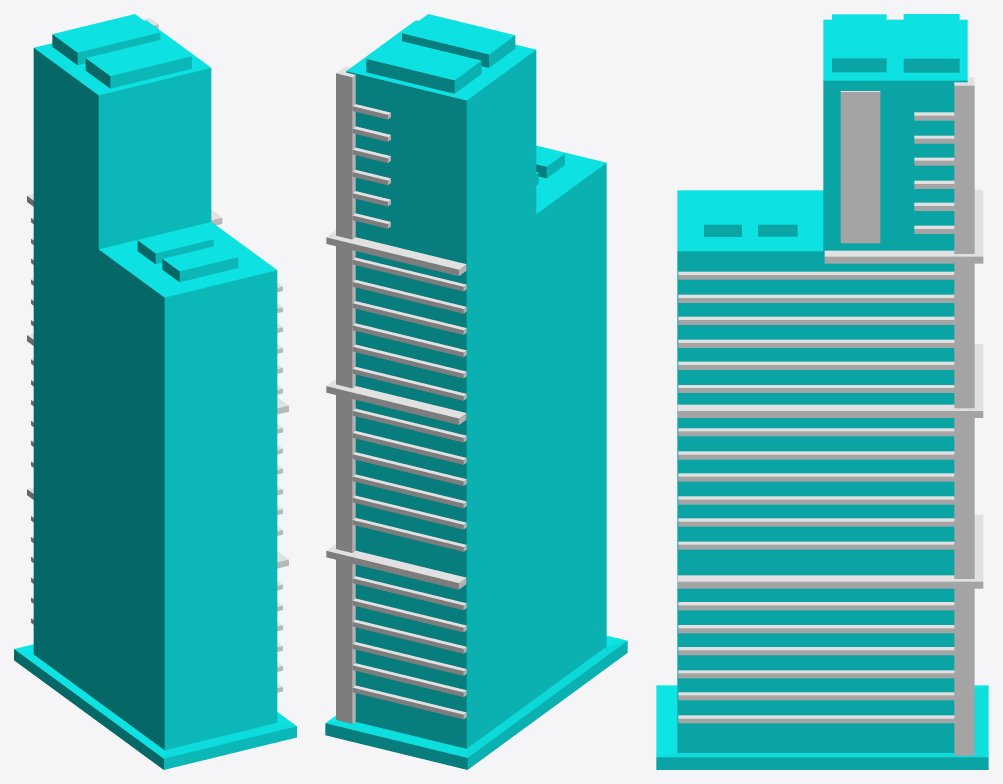
File: Building_3_Blue.glb
The picture shows the model from 3 angles, left to right: view 1: azimuth 30°, elevation 25°; view 2: azimuth 150°, elevation 25°; view 3: azimuth 270°, elevation 25°; orthographic projection. The views are drawn at different scales.
Visible parts, largest first — view 1: pCube17; view 2: pCube17; view 3: pCube17.
Part boxes in pixels (left/top/right/bottom): pCube17: left=14, top=14, right=296, bottom=769; pCube17: left=325, top=14, right=627, bottom=769; pCube17: left=656, top=14, right=988, bottom=769.
Bounding box in the file's own units: 14.22 × 63.56 × 27.42.
